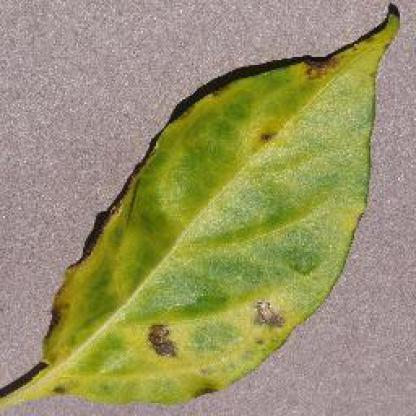bad leaf: (9, 3, 413, 405)
